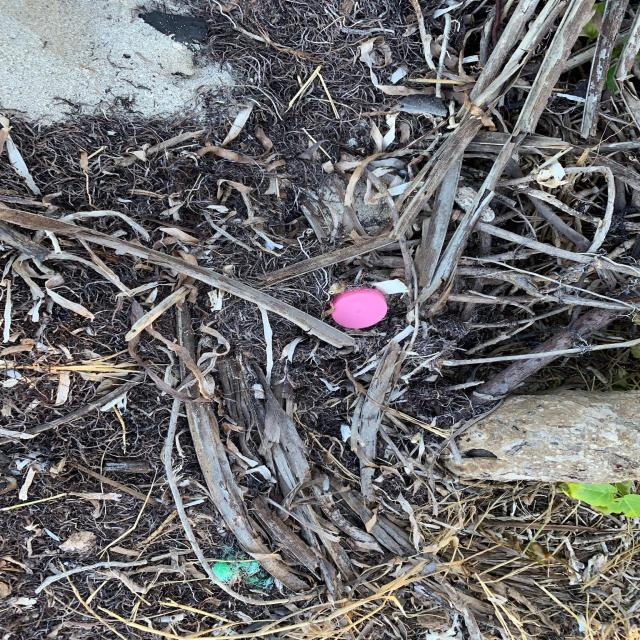litter: (328, 288, 388, 328), (210, 554, 261, 581)
